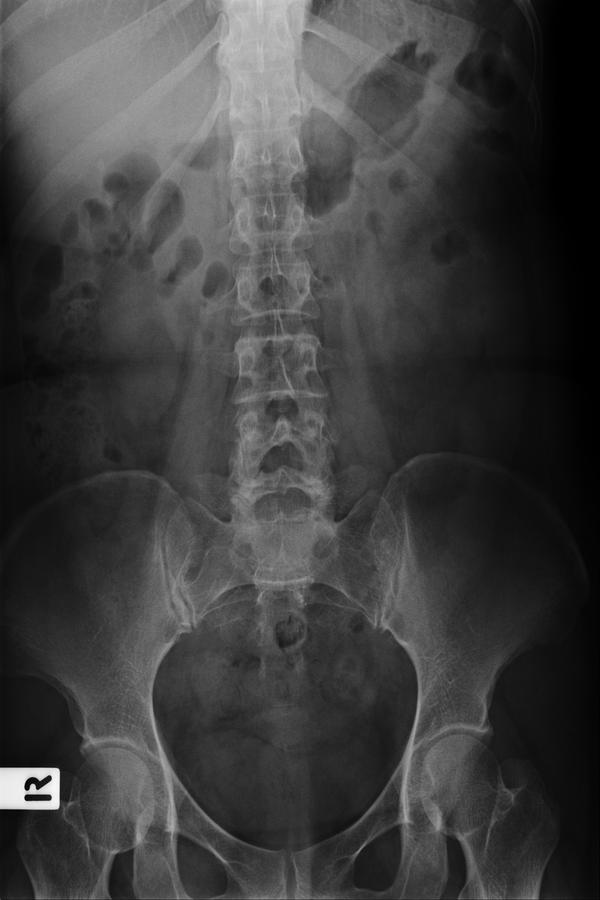lumbar scoliosis: (209, 7, 335, 553)
